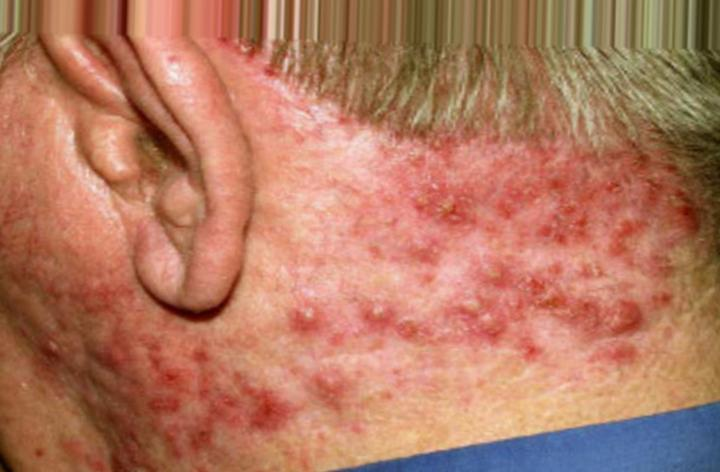Folliculitis: (329, 128, 679, 372)
